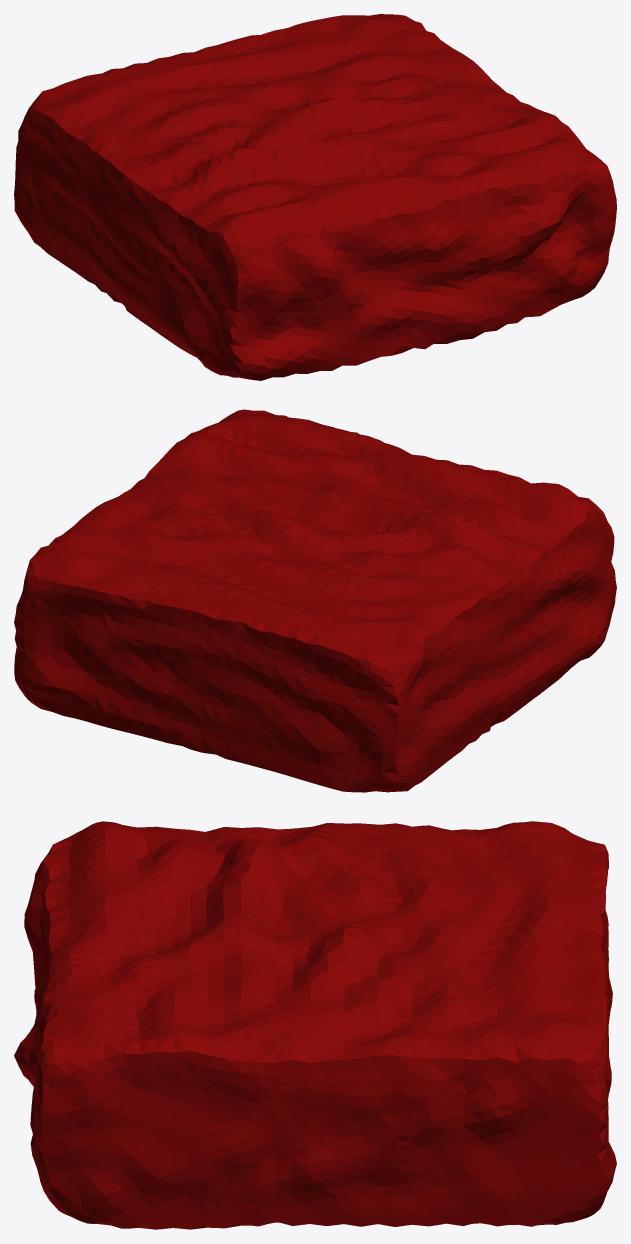
The model's file is spawnPlatform.fbx.
3 views of the same model, one above another, from view 1: azimuth 30°, elevation 25°; view 2: azimuth 150°, elevation 25°; view 3: azimuth 270°, elevation 25° (orthographic). The views are drawn at different scales.
Parts seen in each view (by area): view 1: Cube; view 2: Cube; view 3: Cube.
Part boxes in pixels (x1,y1,x2,y2): Cube: [14, 14, 616, 380]; Cube: [14, 409, 616, 792]; Cube: [14, 821, 616, 1229].
Bounding box in the file's own units: 638 × 256 × 663.
Materials: 1 (1 with a texture image).
